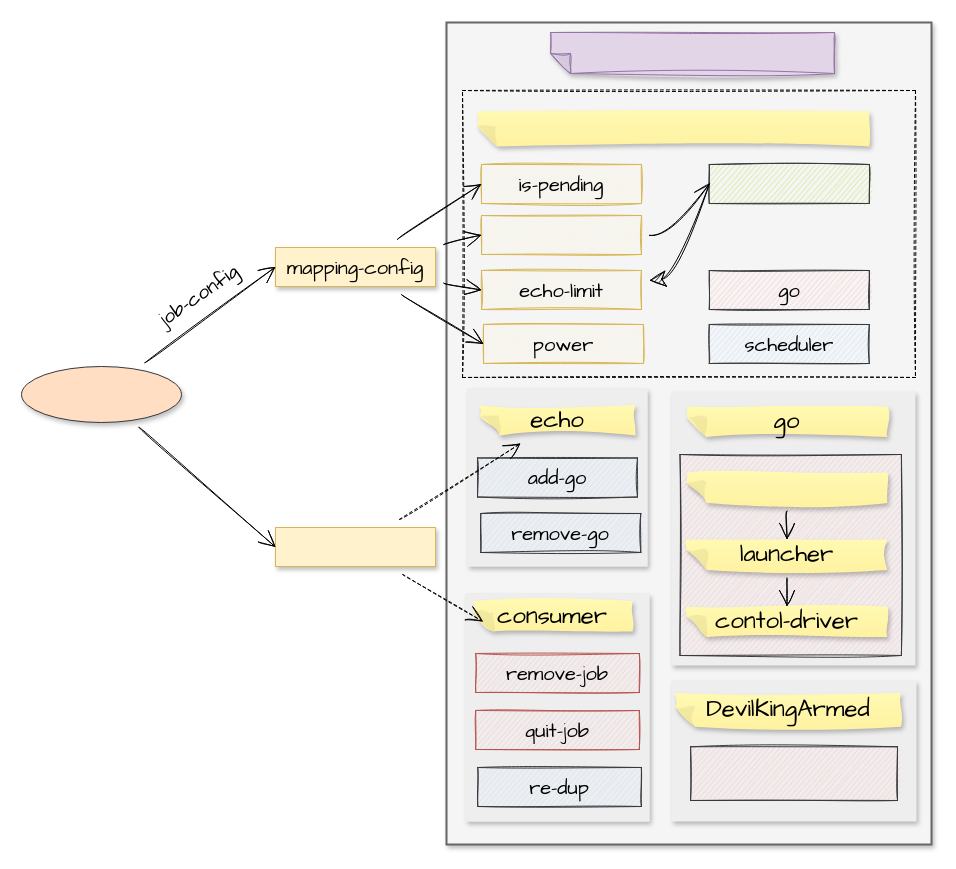
The diagram is 956 pixels wide and 869 high, and some of its shapes have lost their labels. Here are the shapes that lost their labels. From the top down, the centre of each, then its label:
[693,54]: CollectorScheduler
[674,130]: __init__
[788,184]: threshold
[561,234]: sync-step
[102,396]: InterfaceIO
[787,489]: offload-task
[356,548]: deploy-jobs
[794,773]: SpawnBooster
